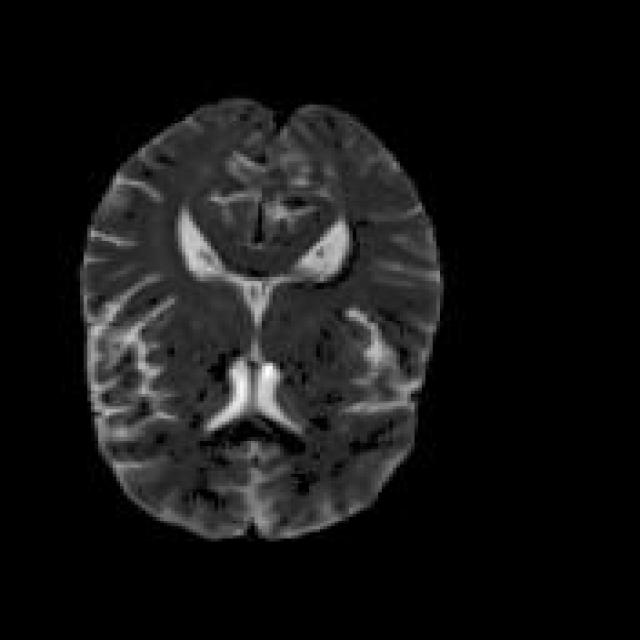parkinson: (76, 92, 444, 542)
